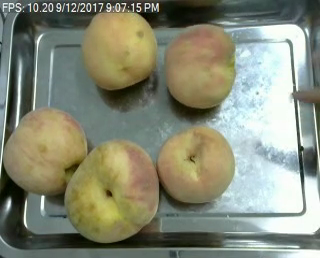Peach: (64, 140, 160, 242), (1, 106, 86, 198), (81, 8, 156, 91), (156, 124, 235, 202), (165, 25, 237, 109)
